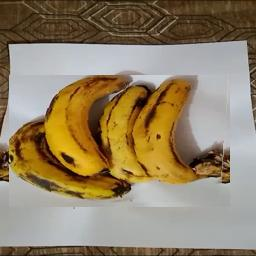Banana Semifresh: (10, 75, 231, 207)
